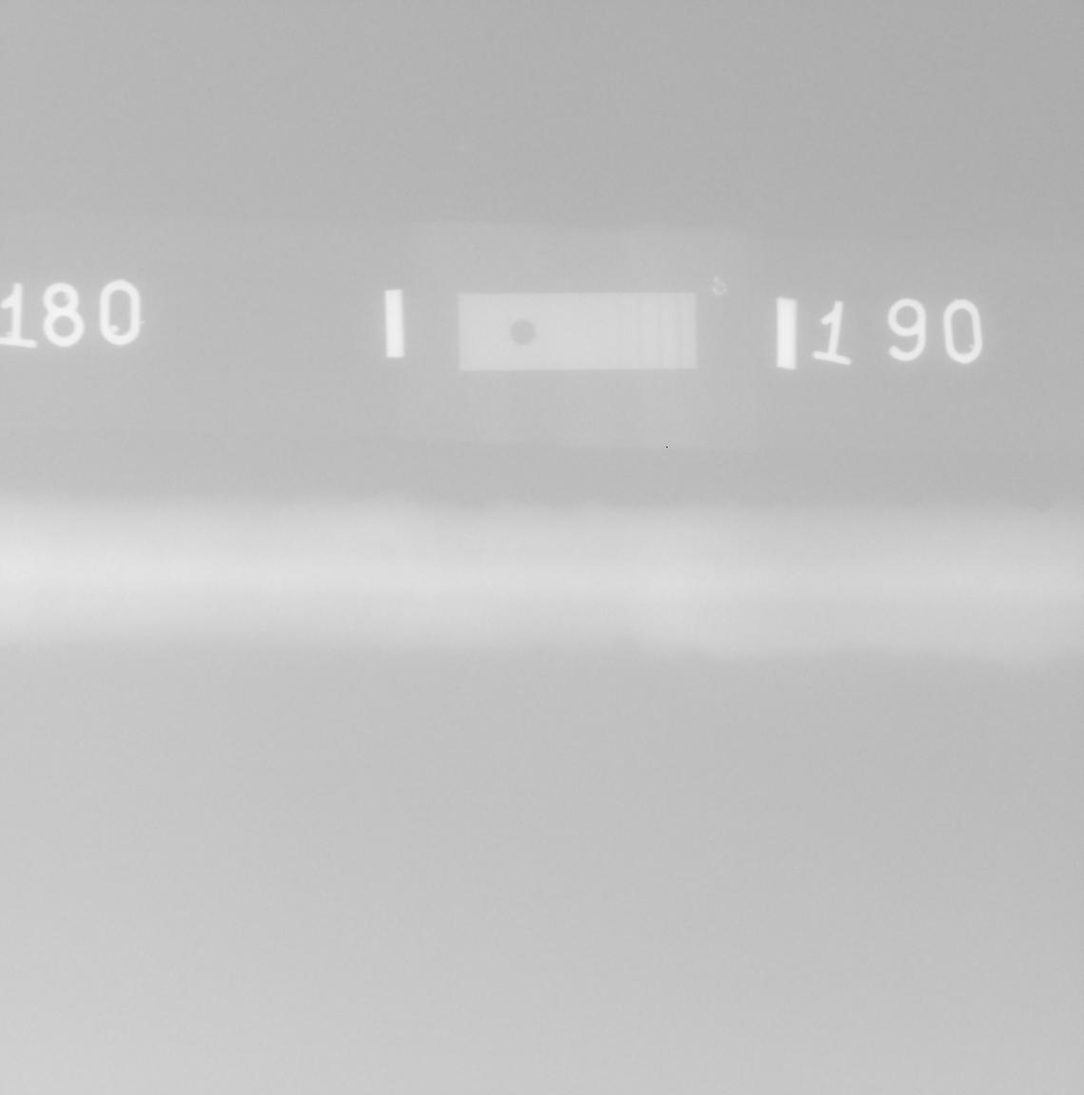Reference Standard 1: (457, 292, 697, 371)
